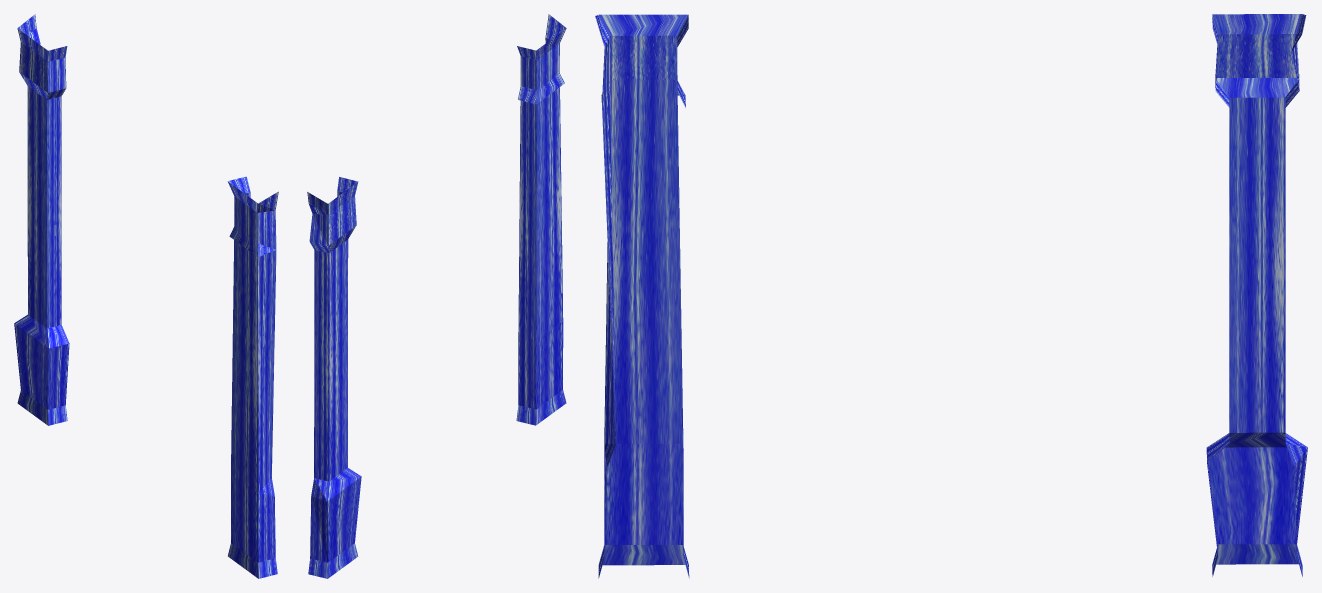
3 views of the same model, side by side, from view 1: azimuth 30°, elevation 25°; view 2: azimuth 150°, elevation 25°; view 3: azimuth 270°, elevation 25° (orthographic). The views are drawn at different scales.
Size of the model in its own units: 0.0185 by 0.3104 by 0.3563.
1 material, 1 textured.
